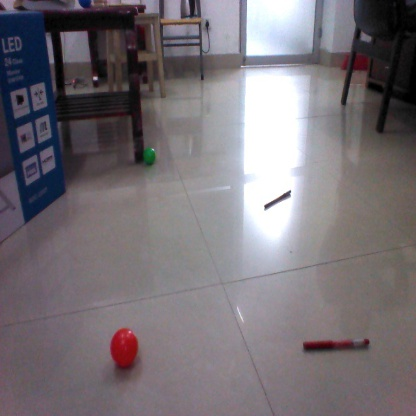ball: (109, 327, 142, 367), (140, 145, 159, 165)
pen: (301, 336, 374, 350), (263, 190, 293, 208)
